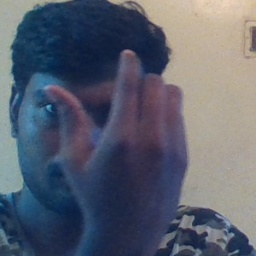U: (40, 47, 198, 231)
